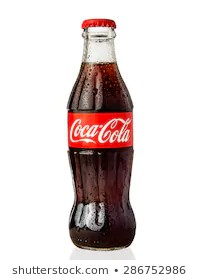coke-glass-bottle: (67, 15, 136, 251)
